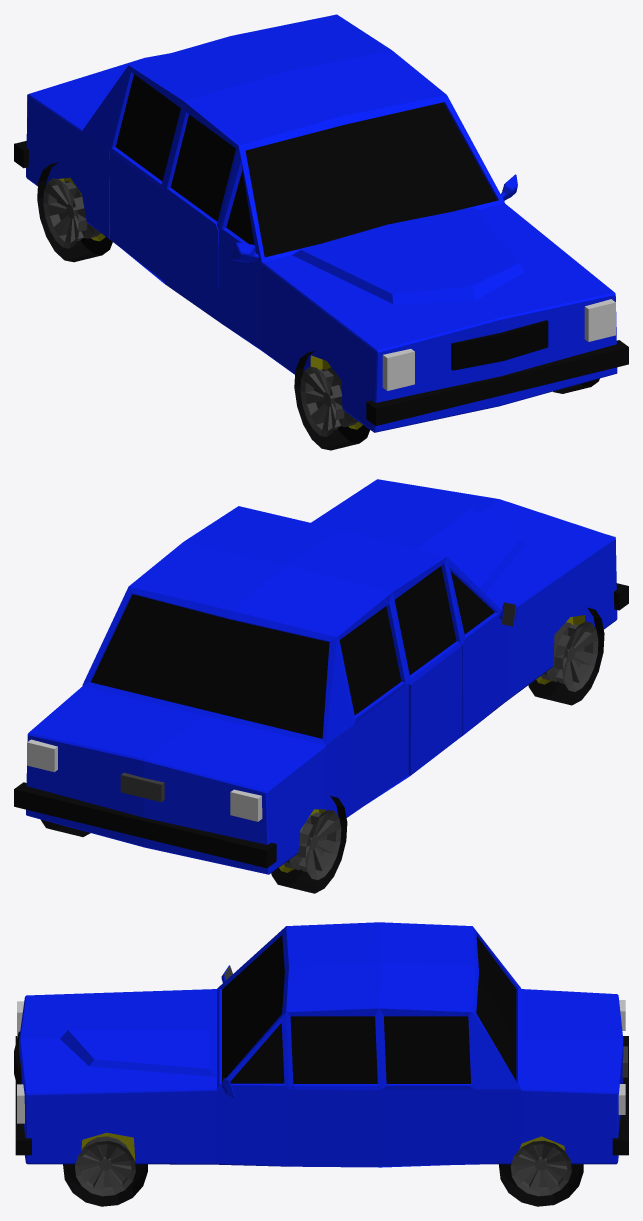
Rendered from car_2_blue.obj.
The picture shows the model from 3 angles, top to bottom: view 1: azimuth 30°, elevation 25°; view 2: azimuth 150°, elevation 25°; view 3: azimuth 270°, elevation 25°; orthographic projection. The views are drawn at different scales.
Parts seen in each view (by area): view 1: Cube.001; view 2: Cube.001; view 3: Cube.001.
Part boxes in pixels (x1,y1,x2,y2): Cube.001: (14,14,628,450); Cube.001: (14,479,628,893); Cube.001: (14,922,628,1206).
Bounding box in the file's own units: 1.51 × 1.14 × 3.36.
